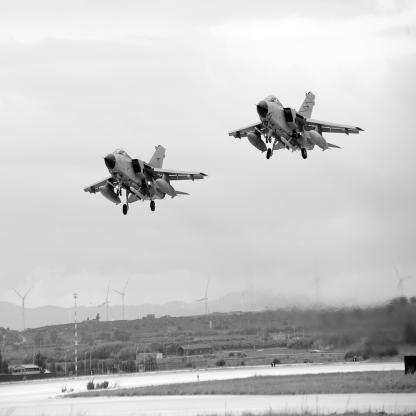Tornado: (229, 93, 367, 161), (84, 146, 210, 216)
